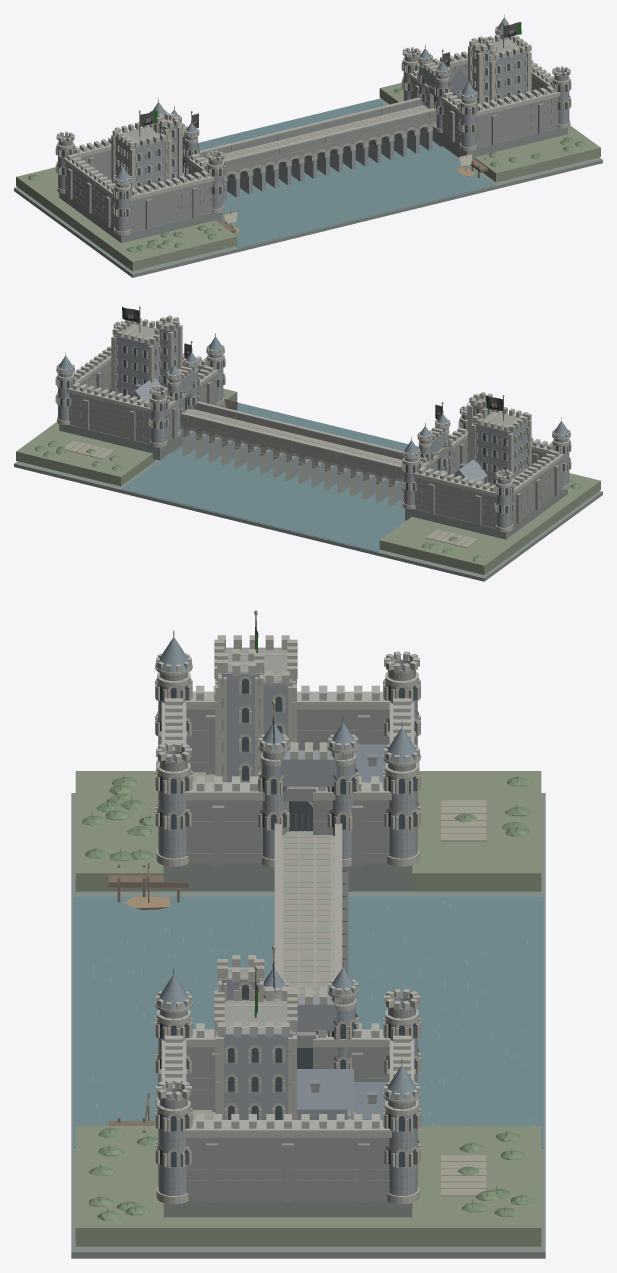
File: twins.glb
3 renders of one model, top to bottom at view 1: azimuth 30°, elevation 25°; view 2: azimuth 150°, elevation 25°; view 3: azimuth 270°, elevation 25°, orthographic. The views are drawn at different scales.
Parts seen in each view (by area): view 1: تویینز; view 2: تویینز; view 3: تویینز.
Part boxes in pixels (x1=…): تویینز: x1=14, y1=14, x2=602, y2=277; تویینز: x1=14, y1=306, x2=602, y2=581; تویینز: x1=71, y1=610, x2=545, y2=1258.
Bounding box in the file's own units: 23.8 × 5.84 × 10.4.
Materials: 2 (1 with a texture image).
